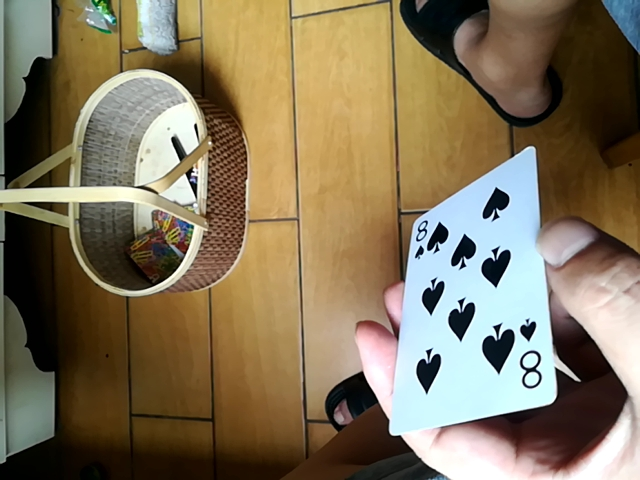ht 8: (392, 148, 553, 429)
